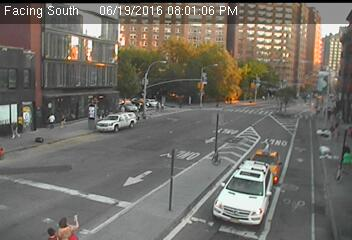neg: (239, 144, 257, 168), (153, 71, 171, 95), (278, 27, 293, 48), (203, 124, 217, 144), (144, 157, 158, 176), (182, 58, 195, 76), (244, 24, 256, 41), (287, 117, 299, 133), (300, 54, 312, 68), (206, 49, 216, 61), (246, 120, 251, 126)
pos: (52, 209, 72, 236), (4, 116, 22, 139), (56, 112, 68, 129), (45, 112, 55, 127)
